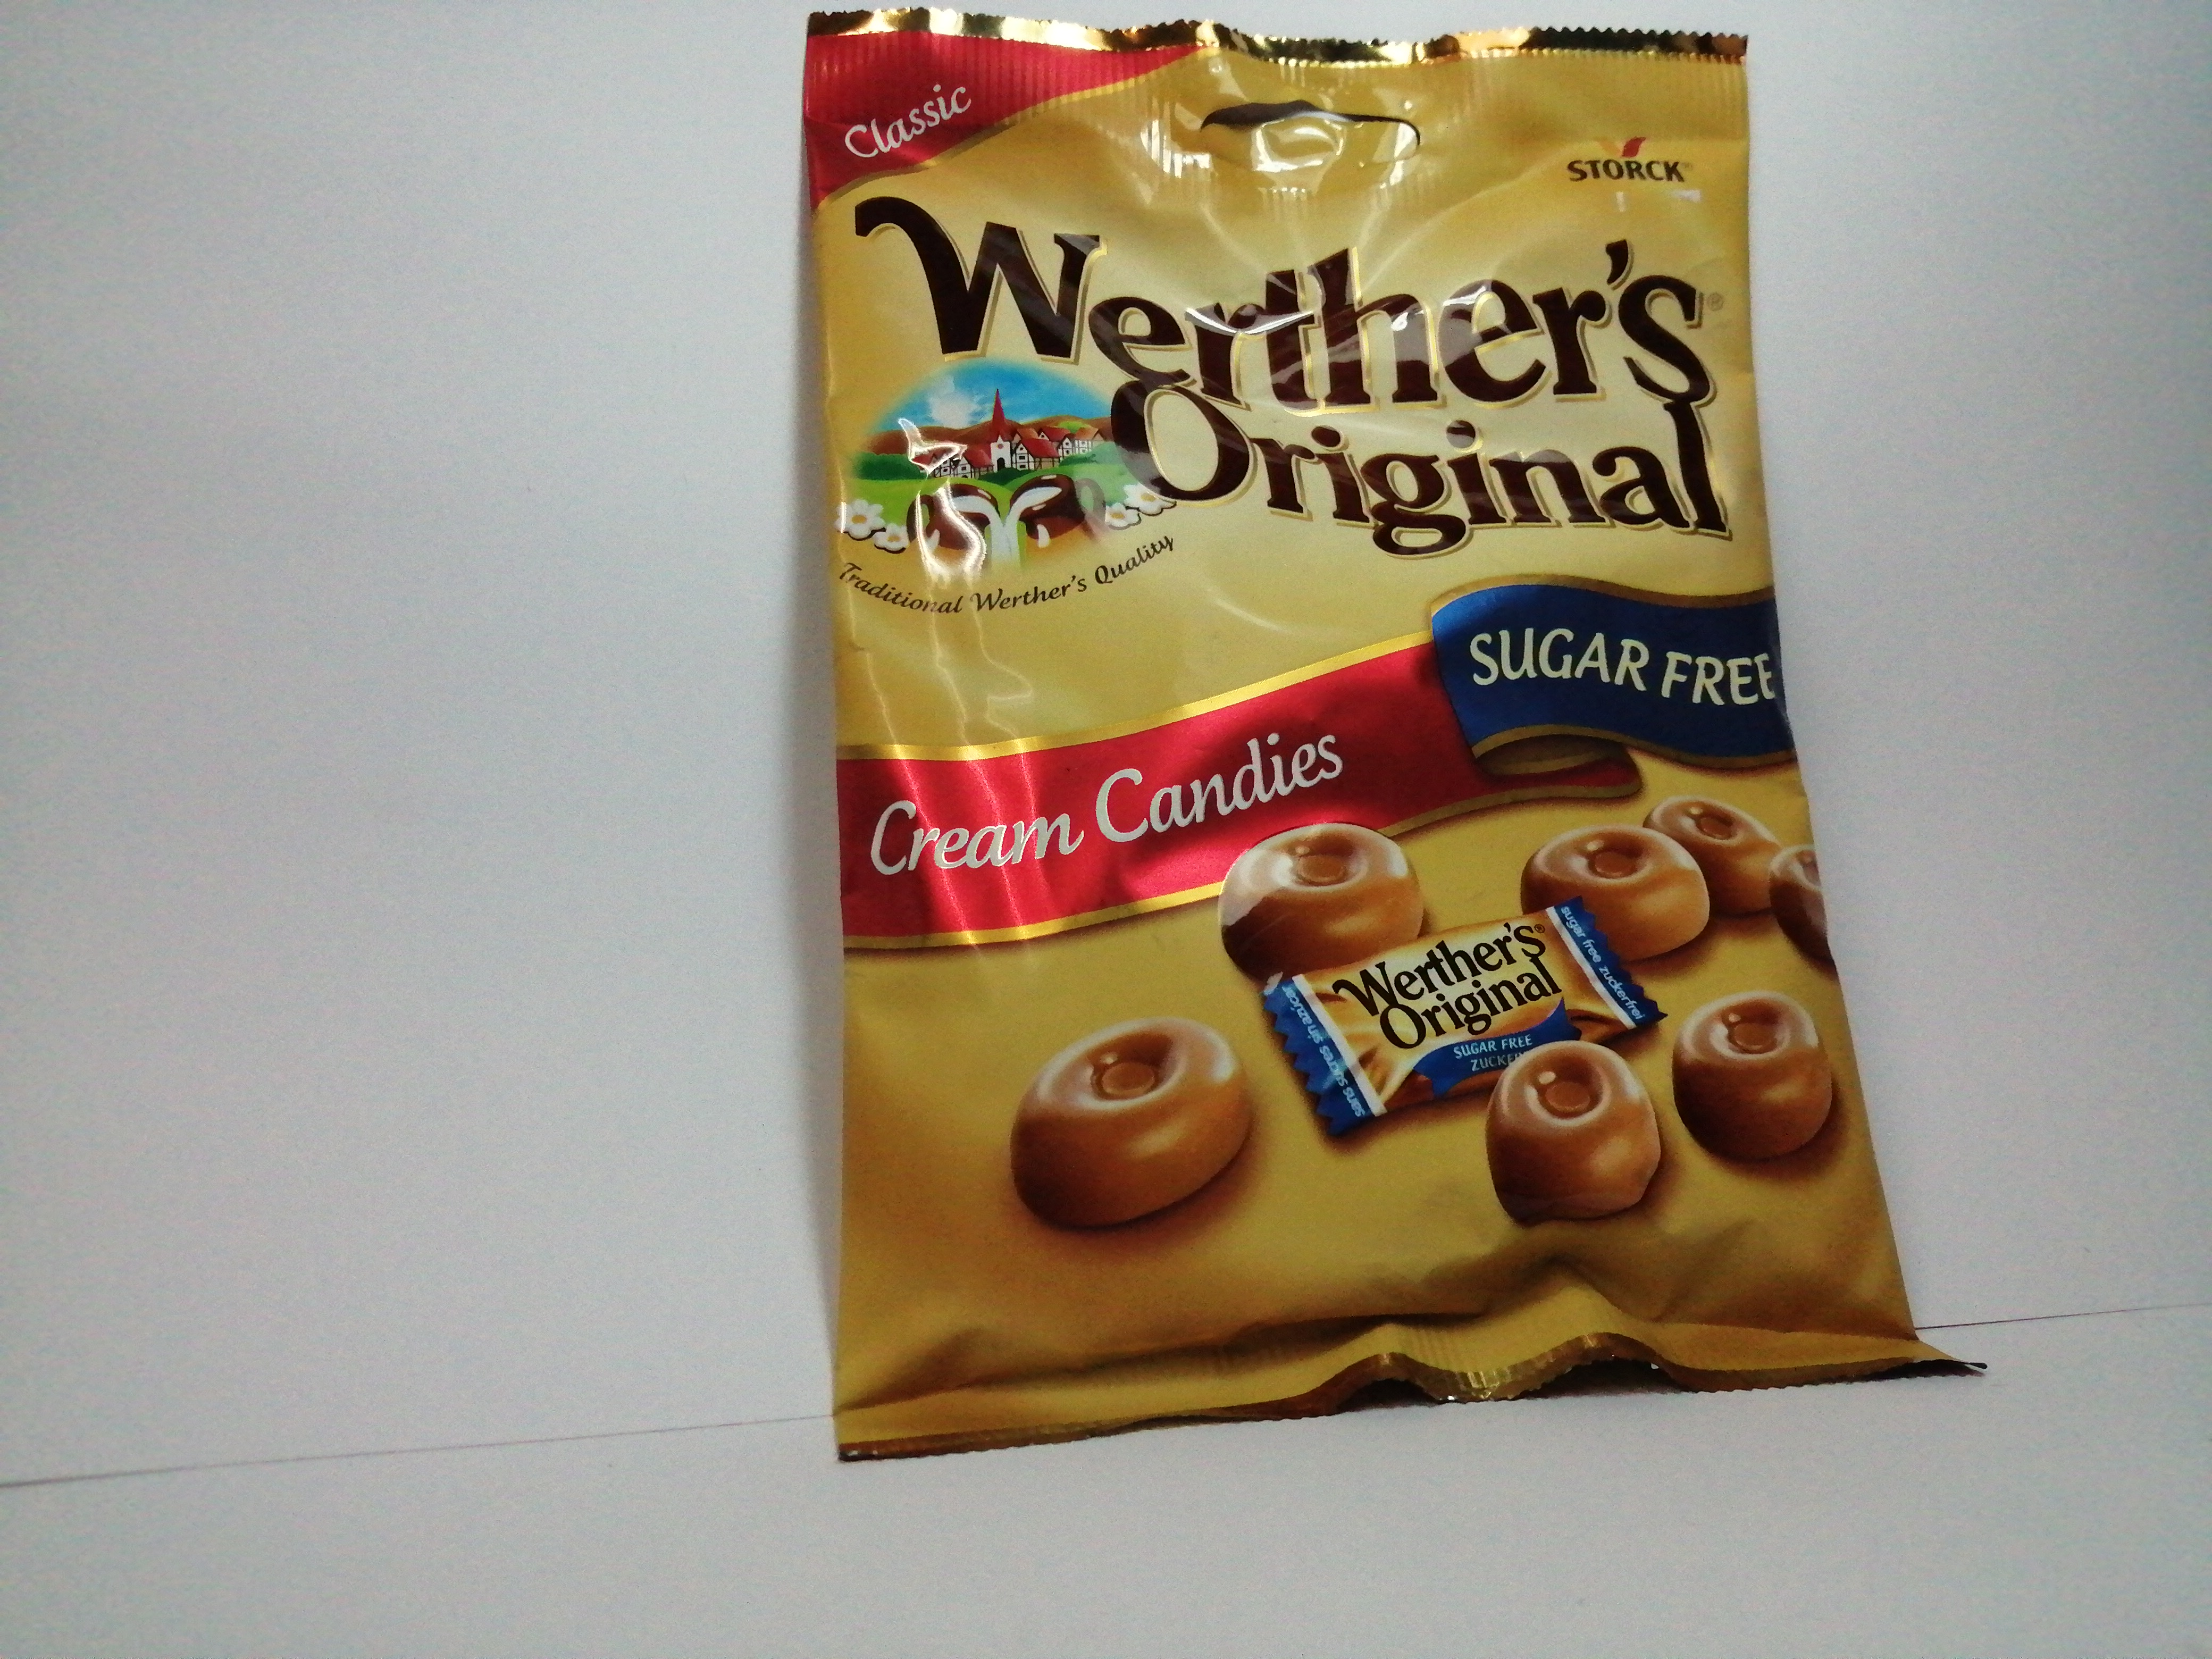dulces: (796, 10, 1966, 1443)
